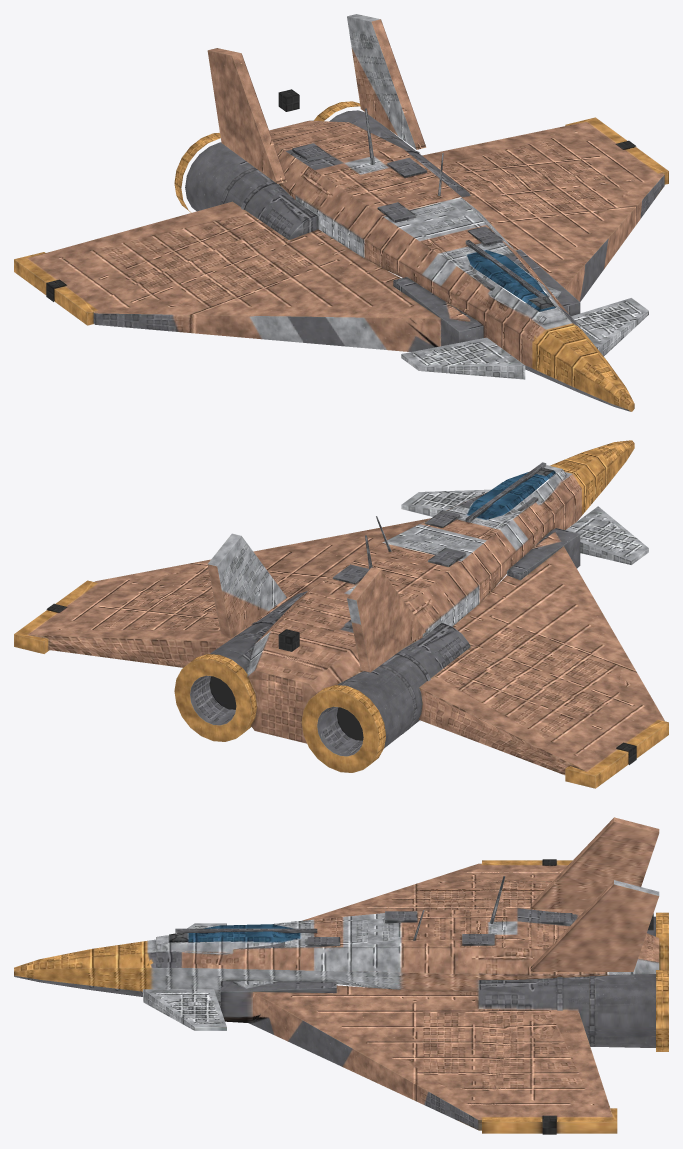
File: sd_npc_raider.glb
3 views of the same model, one above another, from view 1: azimuth 30°, elevation 25°; view 2: azimuth 150°, elevation 25°; view 3: azimuth 270°, elevation 25° (orthographic). The views are drawn at different scales.
Parts seen in each view (by area): view 1: LOD0_body, LOD1_body; view 2: LOD0_body, LOD1_body; view 3: LOD0_body, LOD1_body.
Part boxes in pixels (box(x1,y1,x2,y2)): LOD0_body: box(14, 14, 668, 411); LOD1_body: box(37, 90, 668, 375); LOD0_body: box(14, 440, 668, 788); LOD1_body: box(25, 463, 663, 771); LOD0_body: box(14, 817, 668, 1134); LOD1_body: box(143, 859, 664, 1134).
Size of the model in its own units: 0.9478 by 0.2847 by 1.
Materials: 1 (1 with a texture image).
